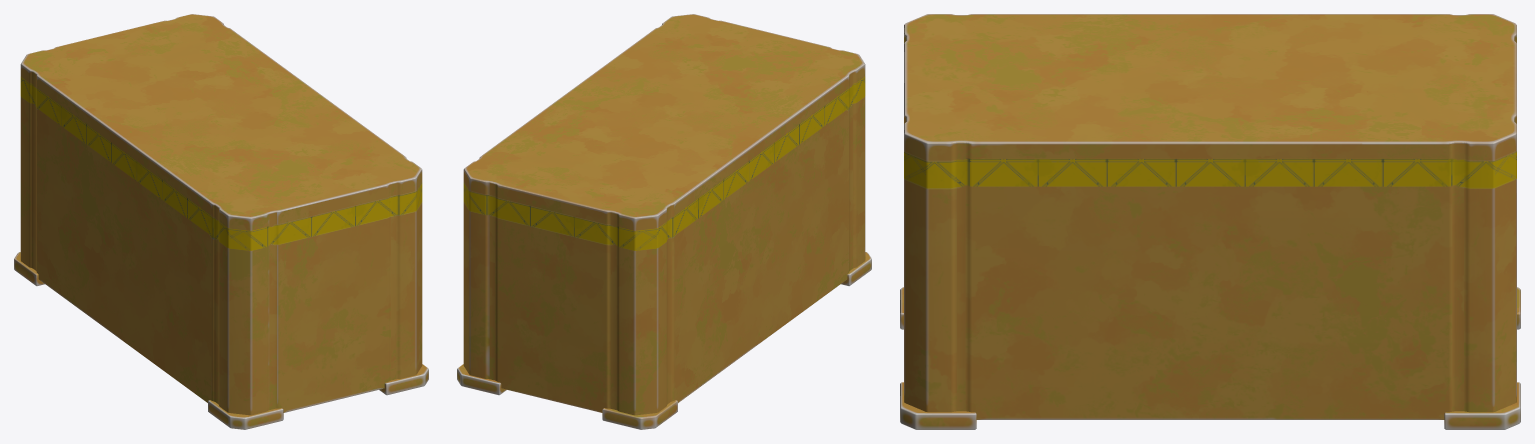
File: SM_Container_03.fbx
3 renders of one model, left to right at view 1: azimuth 30°, elevation 25°; view 2: azimuth 150°, elevation 25°; view 3: azimuth 270°, elevation 25°, orthographic. The views are drawn at different scales.
Visible parts, largest first — view 1: SM_Container_03; view 2: SM_Container_03; view 3: SM_Container_03.
Boxes of the visible parts, x1=… form: SM_Container_03: x1=14, y1=14, x2=428, y2=429; SM_Container_03: x1=457, y1=14, x2=871, y2=429; SM_Container_03: x1=900, y1=14, x2=1520, y2=429.
Size of the model in its own units: 205 by 405 by 206.
Materials: 1 (1 with a texture image).
